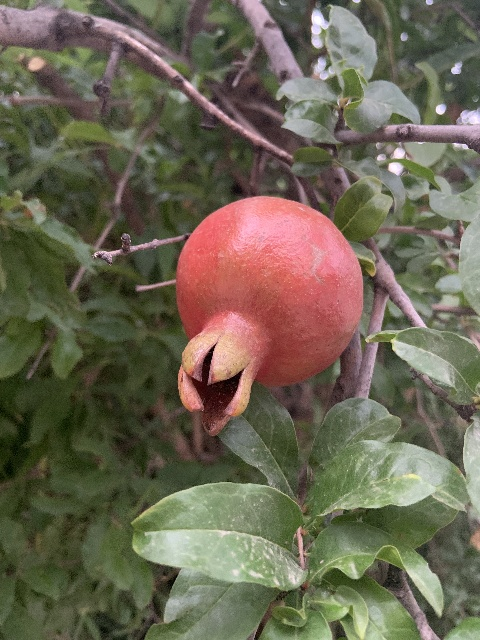ripe: (175, 195, 363, 436)
